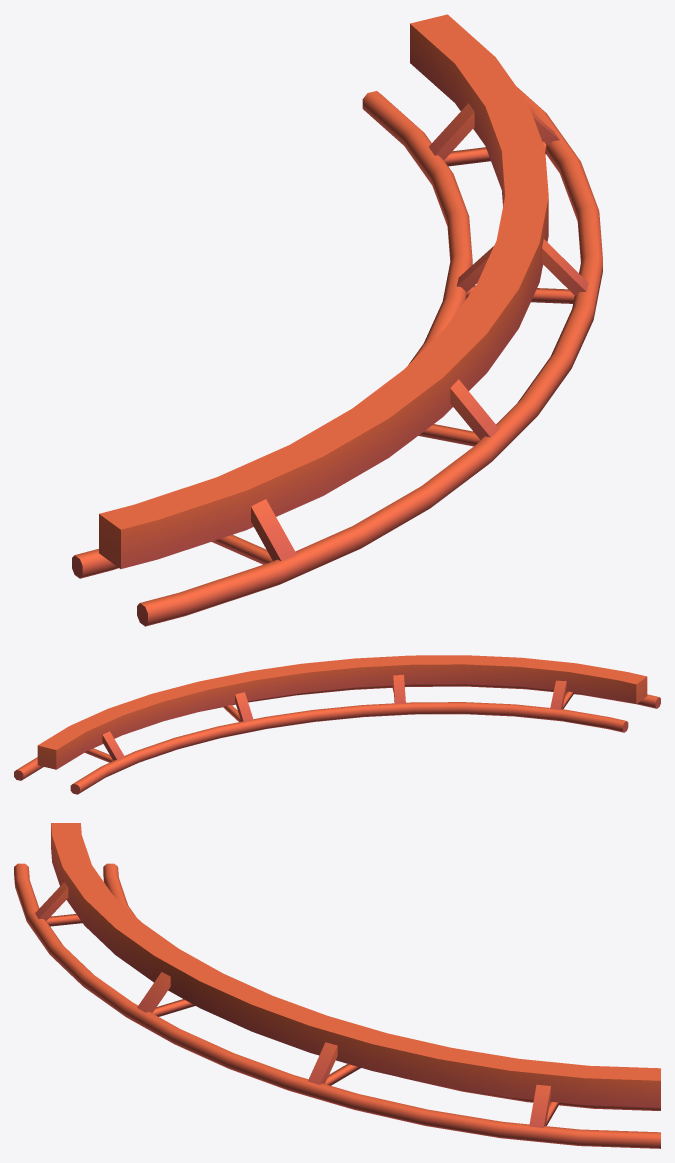
The model's file is coaster-hanging-corner-large.glb.
3 views of the same model, one above another, from view 1: azimuth 30°, elevation 25°; view 2: azimuth 150°, elevation 25°; view 3: azimuth 270°, elevation 25° (orthographic). The views are drawn at different scales.
Visible parts, largest first — view 1: coaster-hanging-corner-large; view 2: coaster-hanging-corner-large; view 3: coaster-hanging-corner-large.
Part boxes in pixels (x1,y1,x2,y2): coaster-hanging-corner-large: (72, 14, 602, 626); coaster-hanging-corner-large: (14, 655, 660, 794); coaster-hanging-corner-large: (14, 823, 660, 1148).
Bounding box in the file's own units: 4.35 × 0.3999 × 4.35.
Materials: 1 (1 with a texture image).
